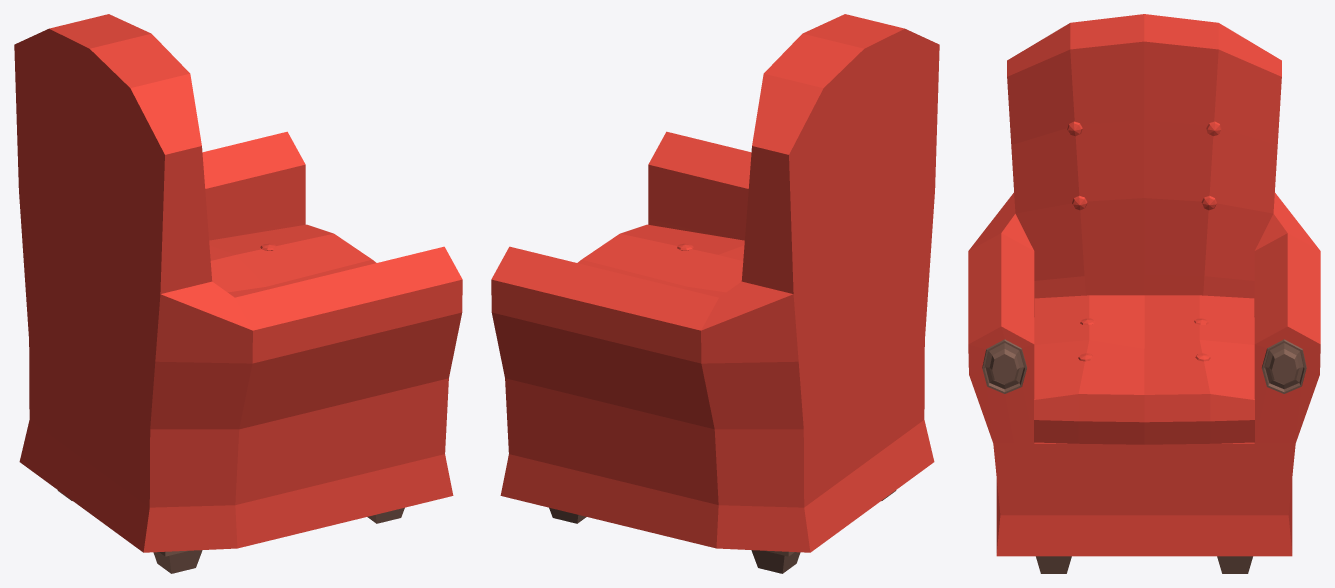
The model's file is Emptychair.glb.
The picture shows the model from 3 angles, left to right: view 1: azimuth 30°, elevation 25°; view 2: azimuth 150°, elevation 25°; view 3: azimuth 270°, elevation 25°; orthographic projection. The views are drawn at different scales.
Parts seen in each view (by area): view 1: node-0; view 2: node-0; view 3: node-0.
Boxes of the visible parts, x1,y1,x2,y2 form: node-0: (14,14,462,573); node-0: (491,14,939,573); node-0: (968,14,1320,573).
Bounding box in the file's own units: 6.32 × 9.99 × 7.14.
